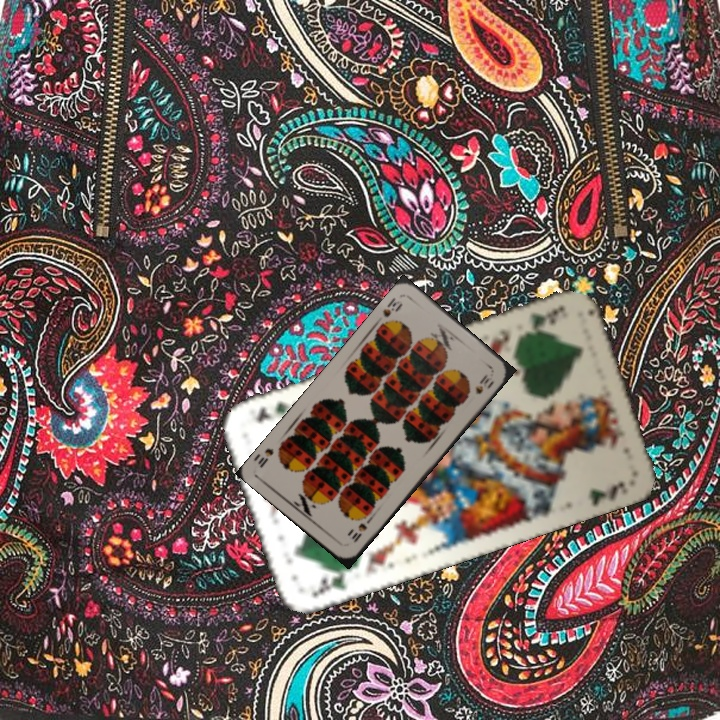GK: (520, 300, 571, 336), (308, 563, 356, 601)
S10: (347, 514, 374, 545), (378, 293, 405, 320)
